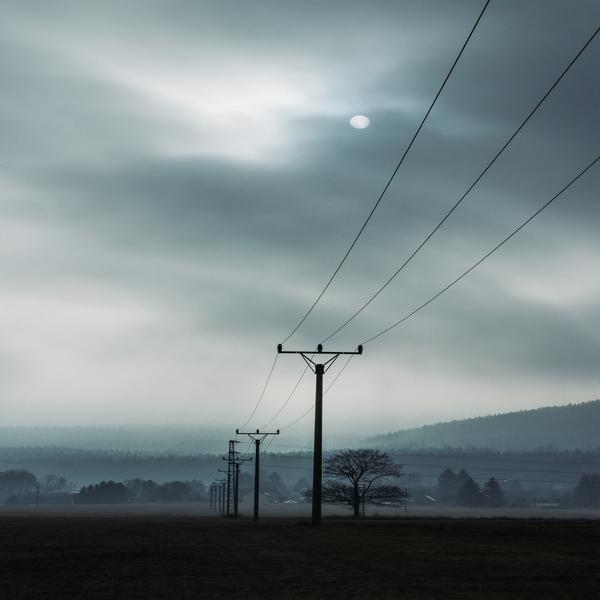utility_pole: (270, 334, 371, 412), (235, 417, 283, 453)
